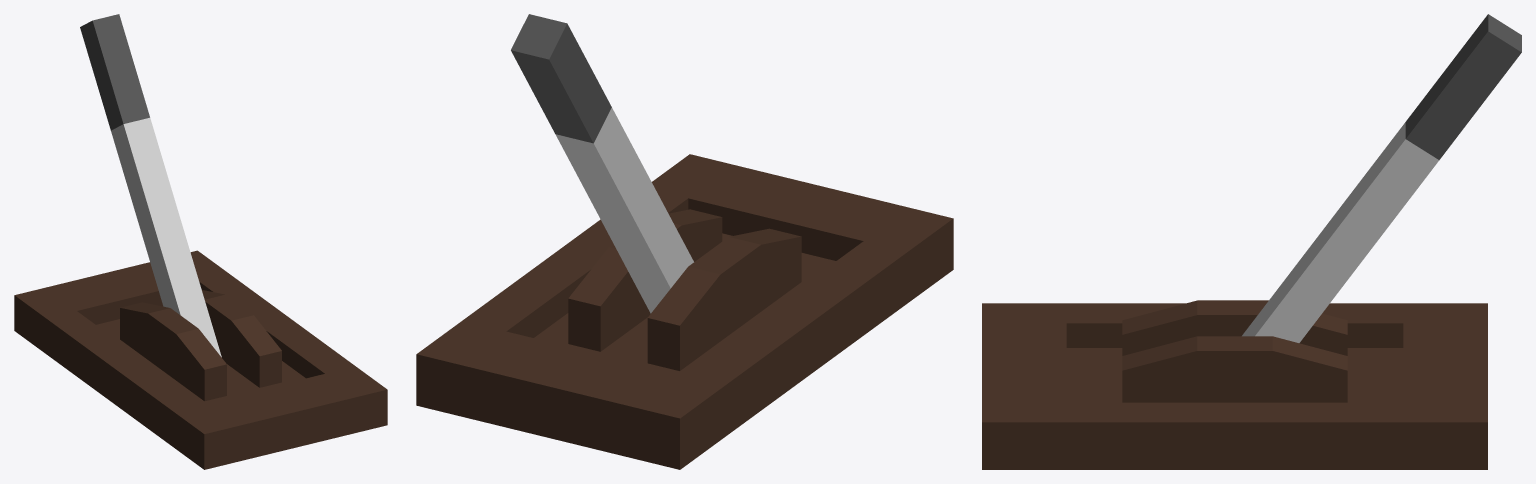
Rendered from levier.fbx.
The picture shows the model from 3 angles, left to right: view 1: azimuth 30°, elevation 25°; view 2: azimuth 150°, elevation 25°; view 3: azimuth 270°, elevation 25°; orthographic projection. The views are drawn at different scales.
Visible parts, largest first — view 1: Socle_Levier, Levier; view 2: Socle_Levier, Levier; view 3: Socle_Levier, Levier.
Part boxes in pixels (<box>): Socle_Levier: <box>14,250,387,469</box>; Levier: <box>80,14,221,357</box>; Socle_Levier: <box>416,154,953,469</box>; Levier: <box>511,14,693,313</box>; Socle_Levier: <box>982,300,1487,469</box>; Levier: <box>1242,14,1521,342</box>.
Bounding box in the file's own units: 111 × 171 × 213.
